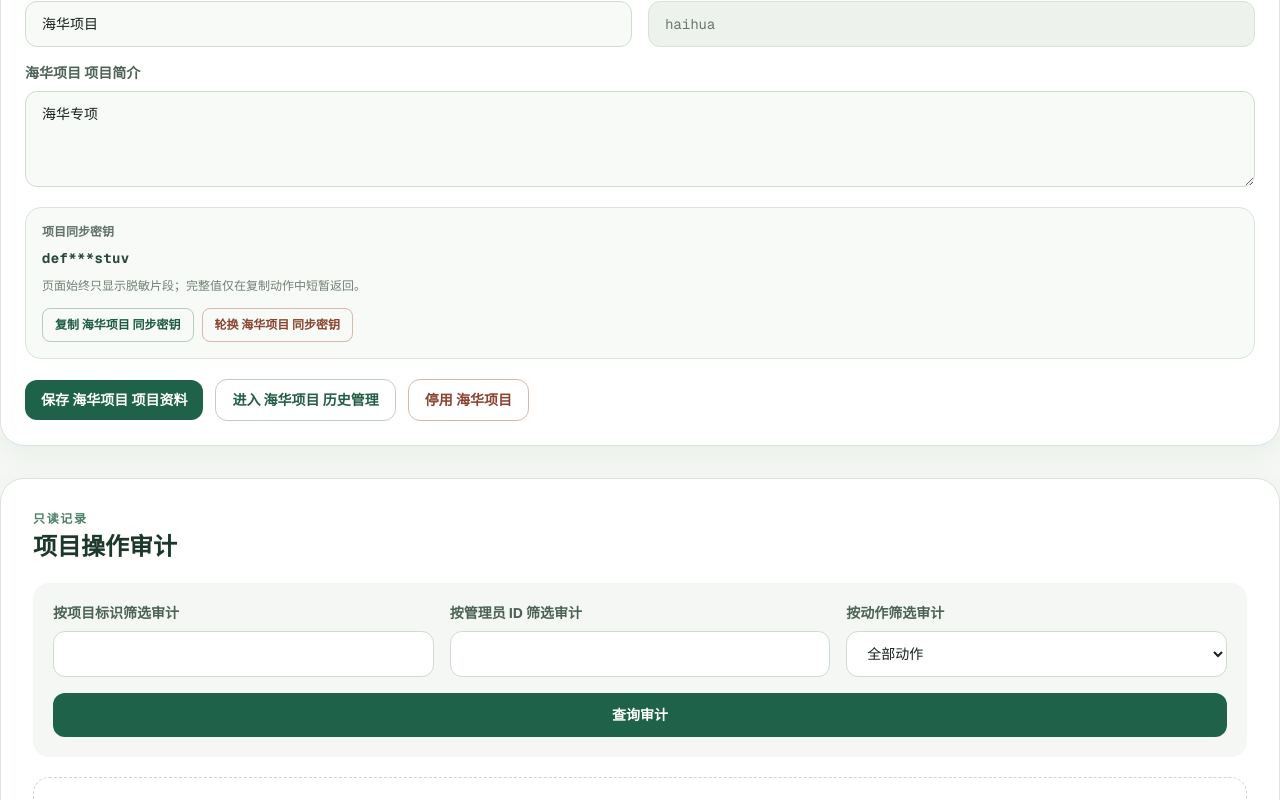
Test: 全局项目维护 UI › 停用和恢复项目并始终保留管理员历史入口
The width and height of the screenshot is (1280, 800).
(page scrolled)
Step 1. Click the button "停用 海华项目" → [468, 400], box [408, 379, 529, 421]
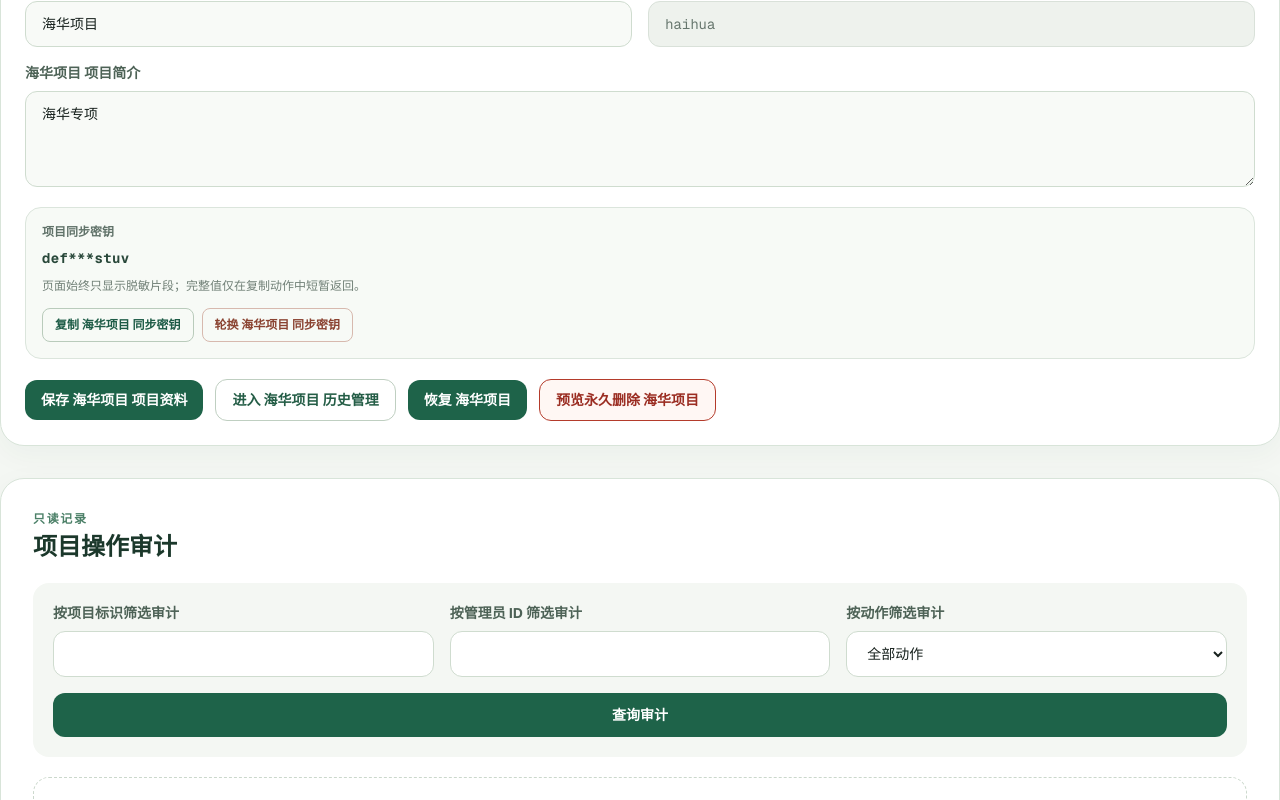
expect the button "恢复 海华项目" is shown: met
Step 2. Click the button "恢复 海华项目" → [467, 400], box [408, 380, 527, 420]
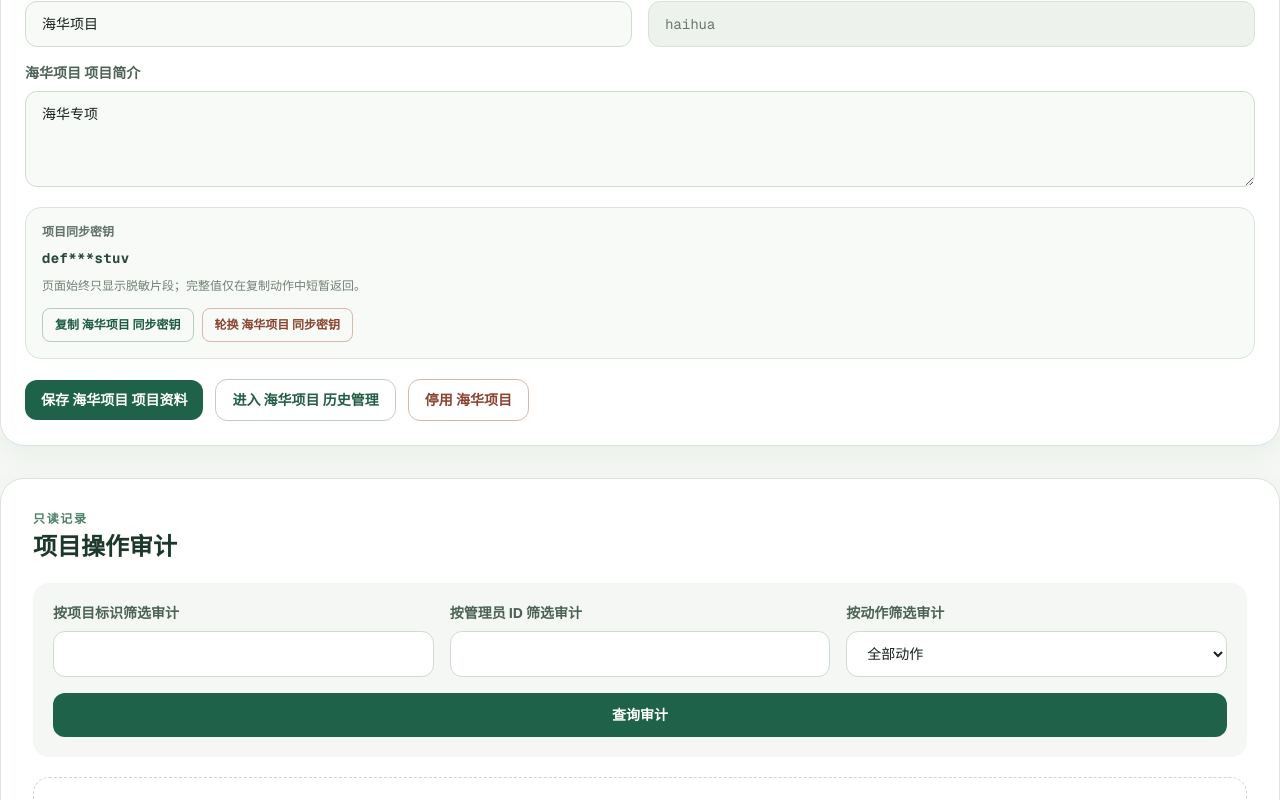
expect the button "停用 海华项目" is shown: met, box [408, 379, 529, 421]
